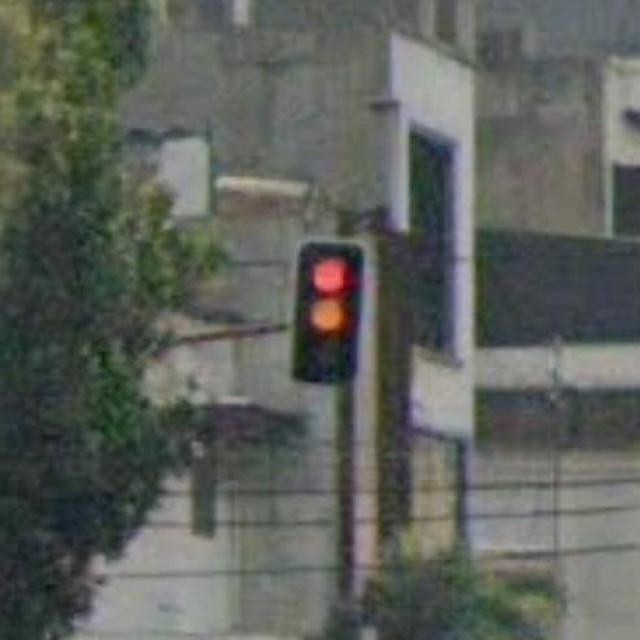yellow_light: (296, 240, 361, 386)
